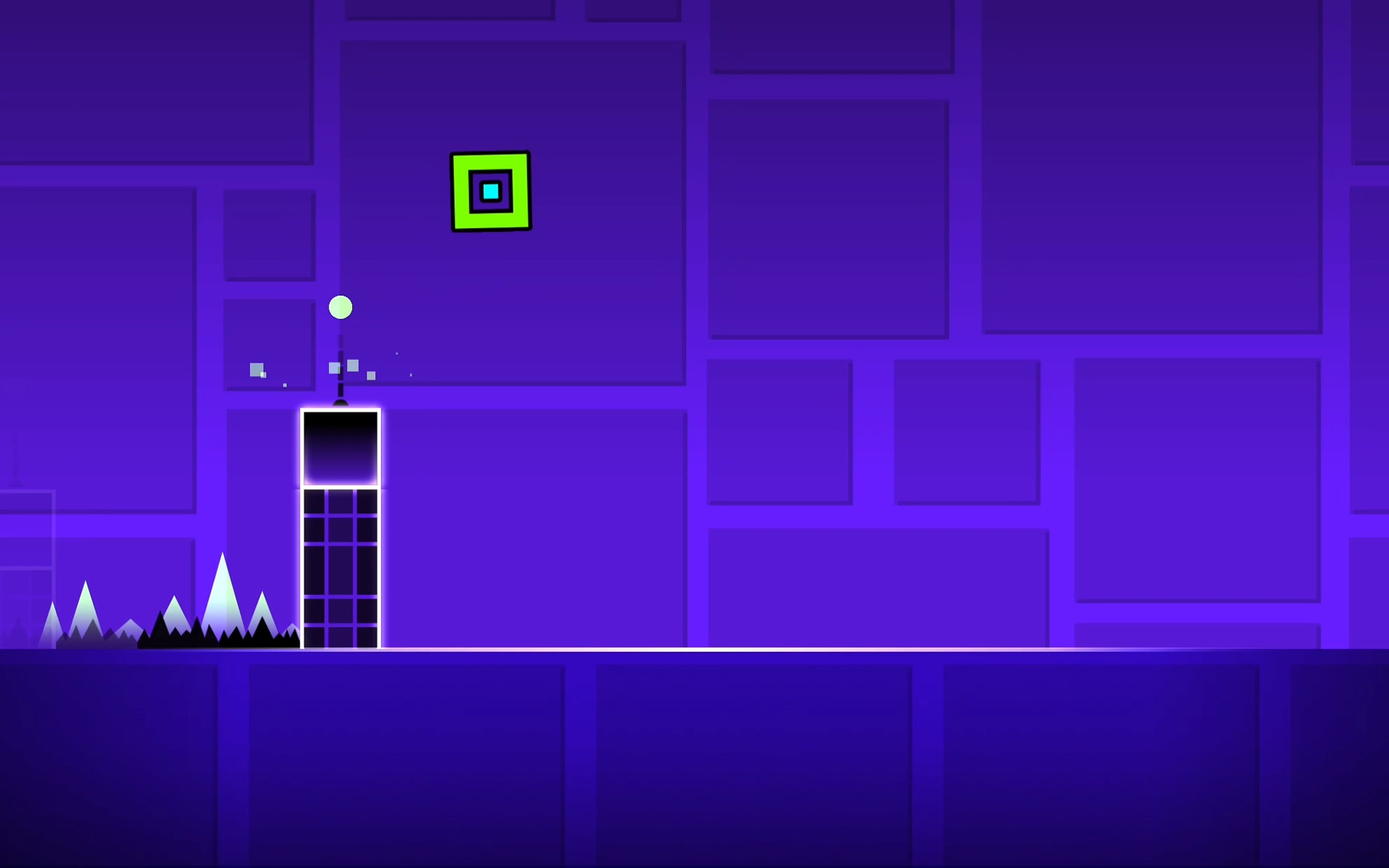Block: (302, 408, 381, 485)
Block2: (302, 488, 382, 651)
Player: (450, 151, 532, 230)
Spike3: (49, 615, 301, 651)
